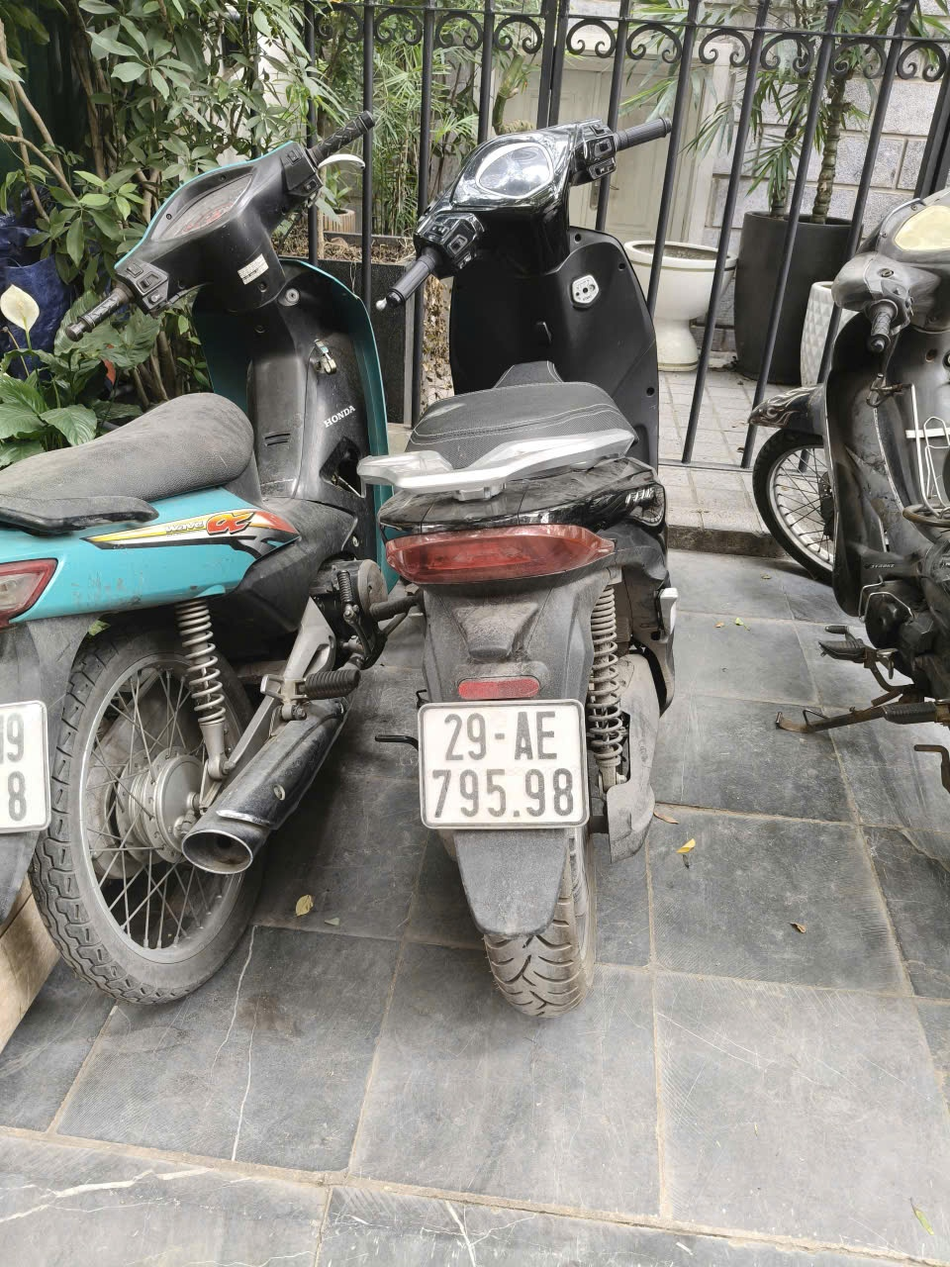plate: (389, 477, 507, 509)
